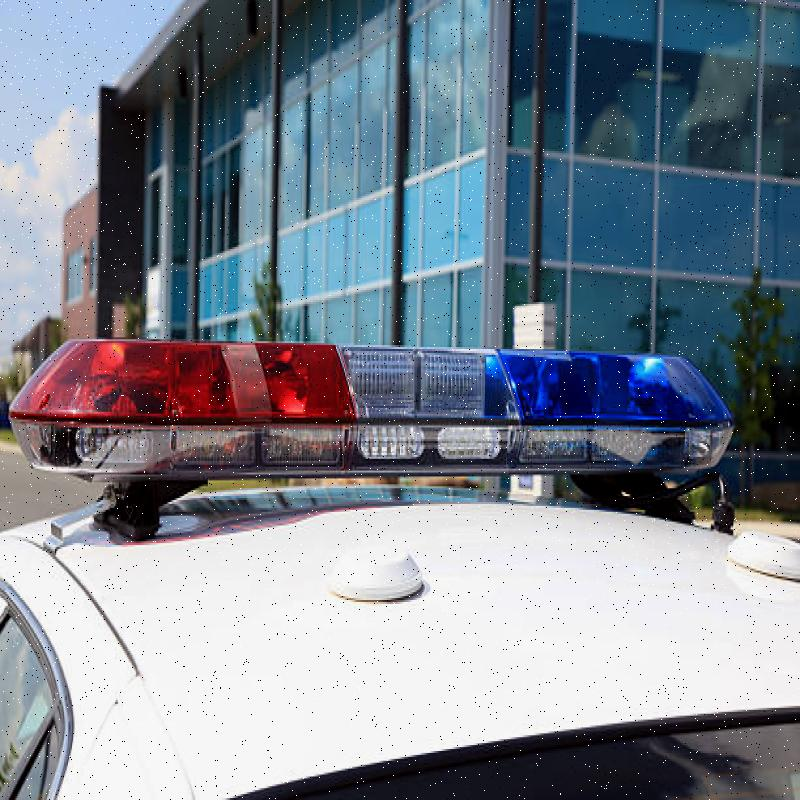AmbulanceSiren: (15, 280, 744, 516)
